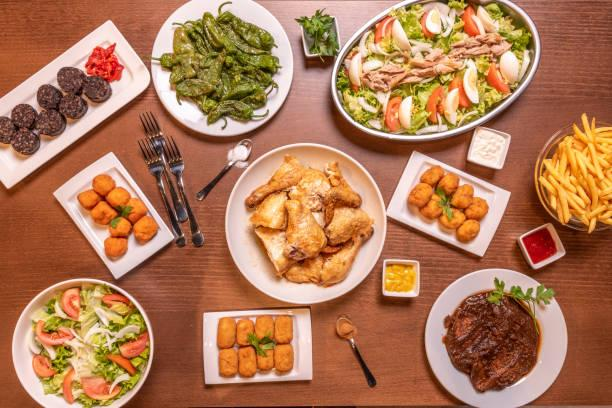Braised Crucian Carp: (331, 1, 536, 143), (223, 141, 382, 304), (0, 19, 151, 189), (423, 268, 569, 408), (149, 0, 290, 140), (11, 276, 153, 405), (56, 160, 182, 282), (385, 149, 509, 258), (533, 121, 612, 231), (202, 308, 313, 386)
